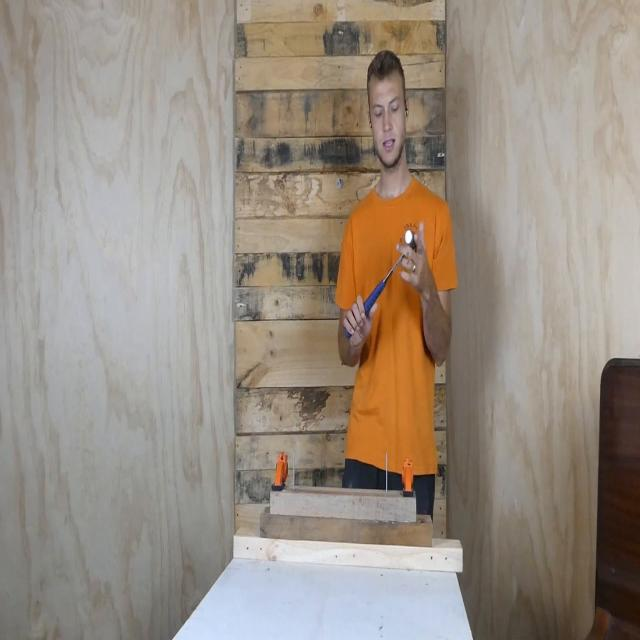hammer: (344, 229, 417, 338)
